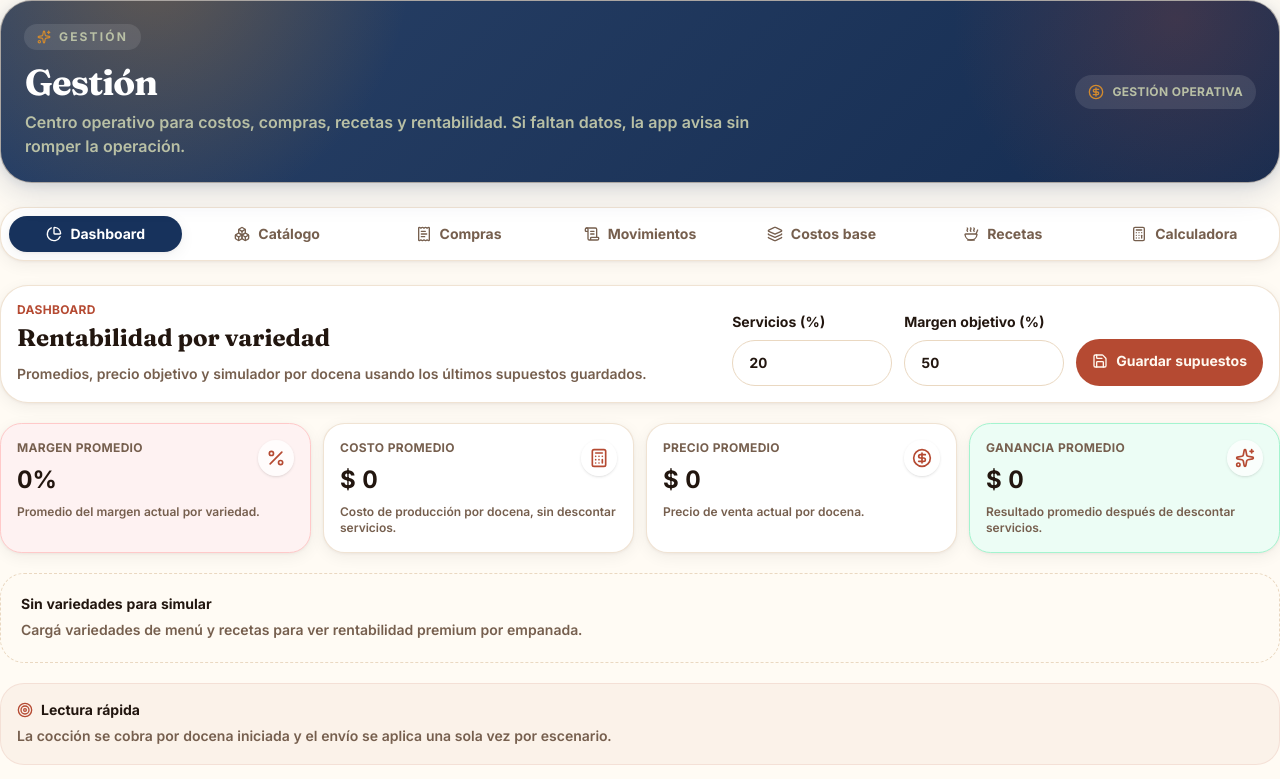
Scenario: FinancePage › shows empty states when finance data is incomplete
Step 1. Click the tab "Catálogo" → (277, 234), box x1=190 y1=216 x2=364 y2=252
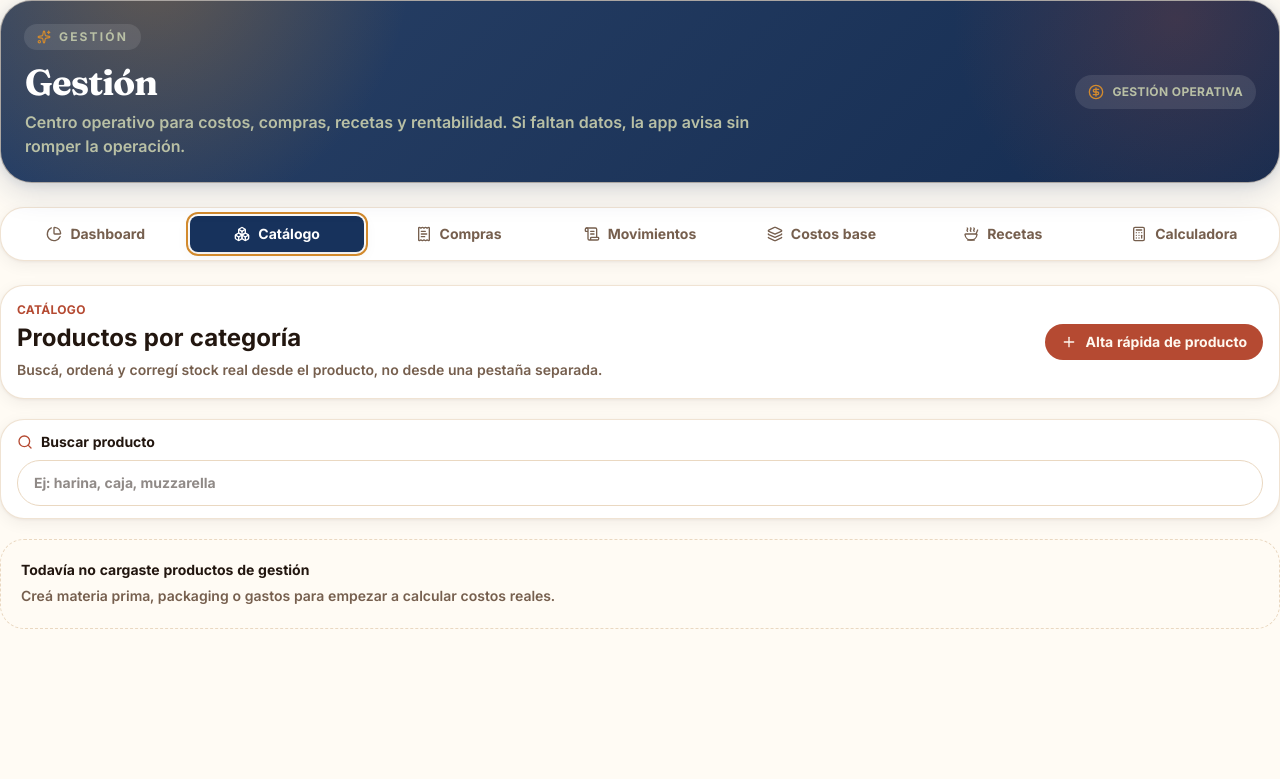
Expected: the text "Todavía no cargaste productos de gestión" is shown, x1=21 y1=561 x2=309 y2=578
Step 2. Click the tab "Costos base" → (821, 234), box x1=735 y1=216 x2=908 y2=252
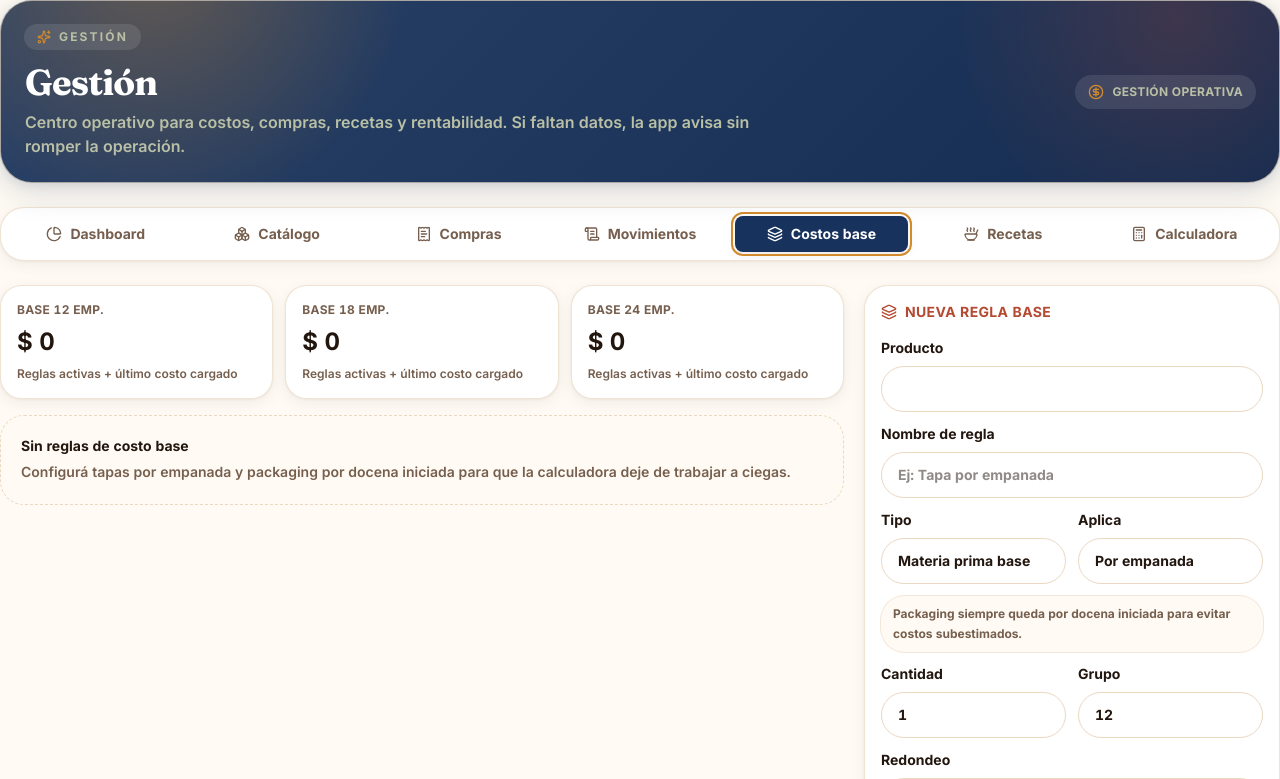
Expected: the text "Sin reglas de costo base" is shown, x1=21 y1=437 x2=189 y2=454
Step 3. Click the tab "Recetas" → (1003, 234), box x1=916 y1=216 x2=1090 y2=252
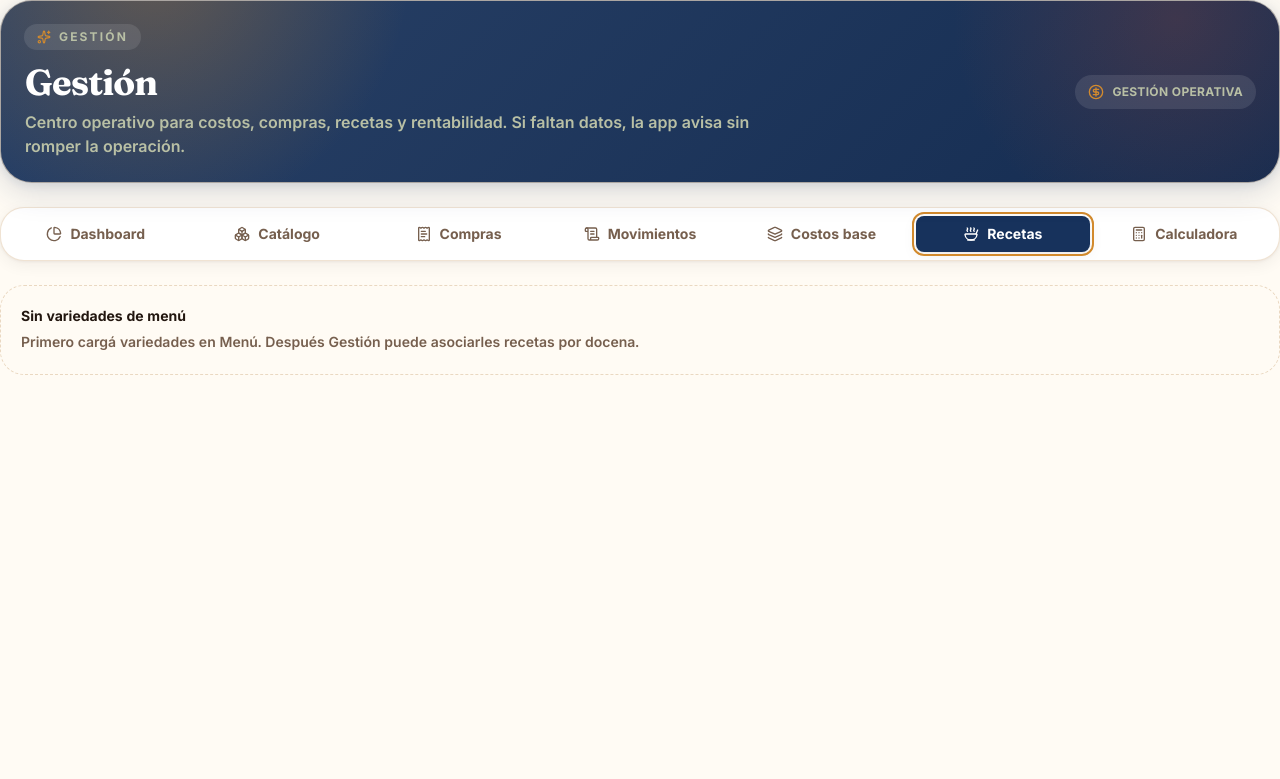
Expected: the text "Sin variedades de menú" is shown, x1=21 y1=307 x2=186 y2=324
